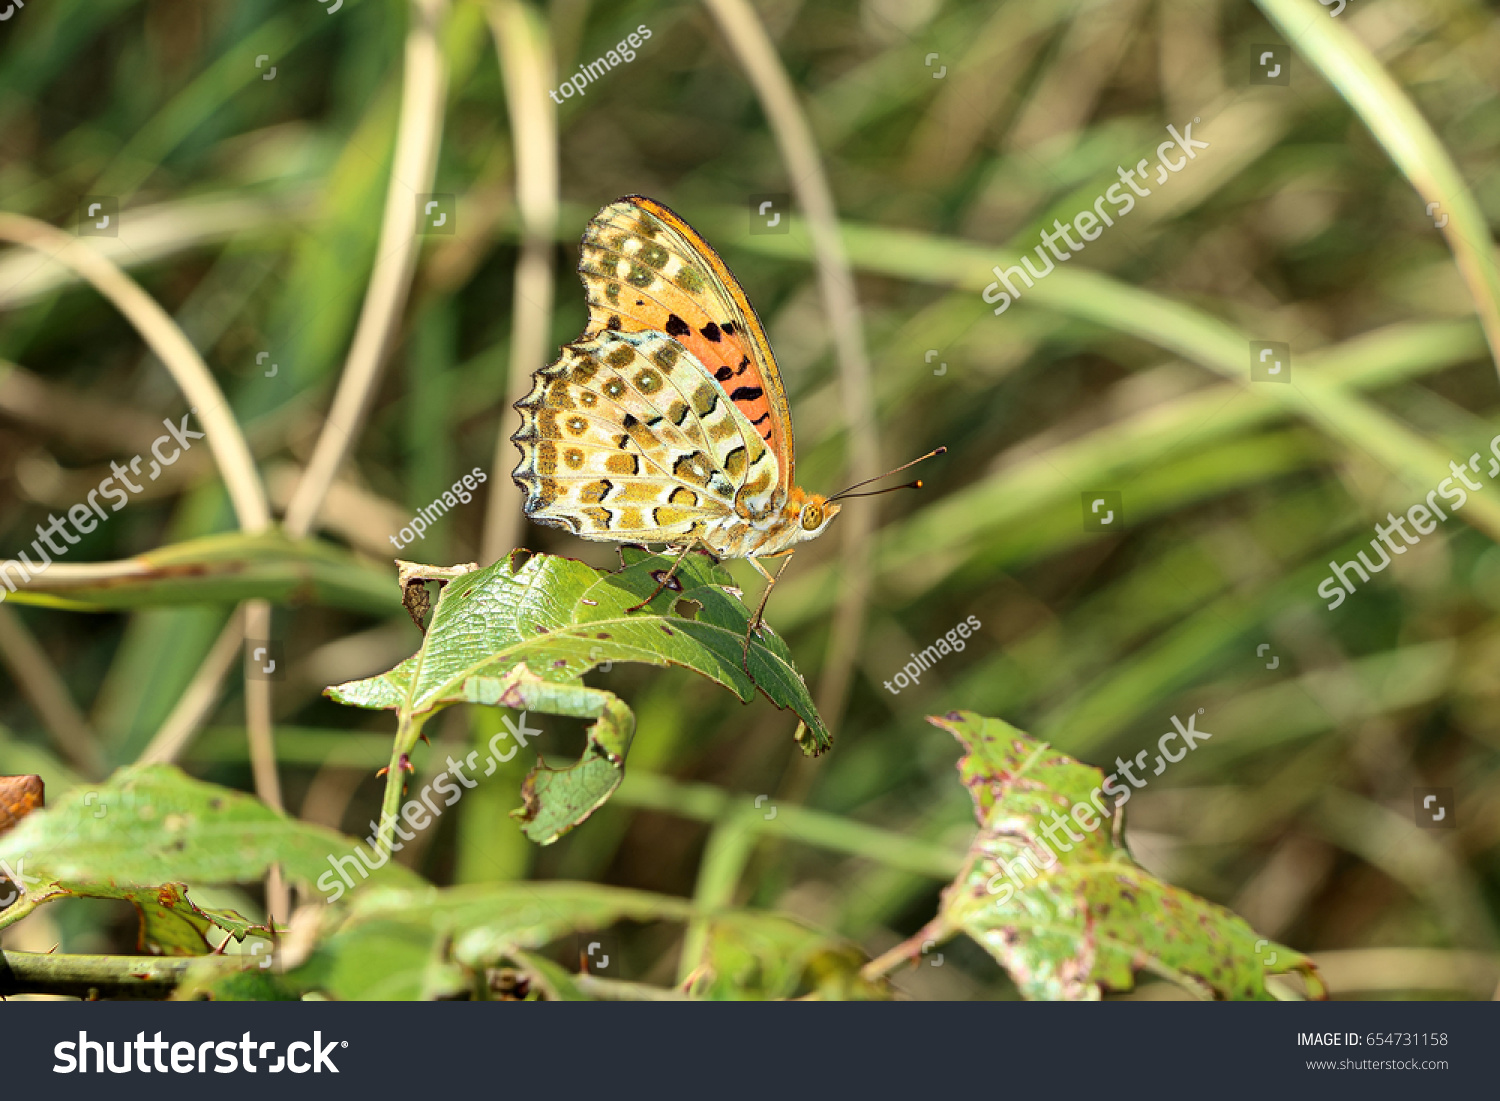Argyreus hyperbius: (509, 184, 965, 673)
butterfly: (511, 186, 967, 675)
